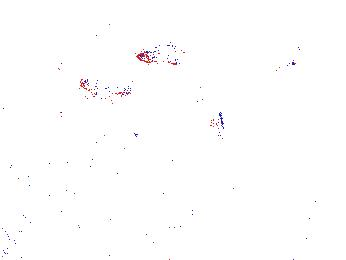glassfish: (188, 72, 228, 145)
redtail glassfish: (78, 77, 124, 102), (136, 43, 187, 65)
